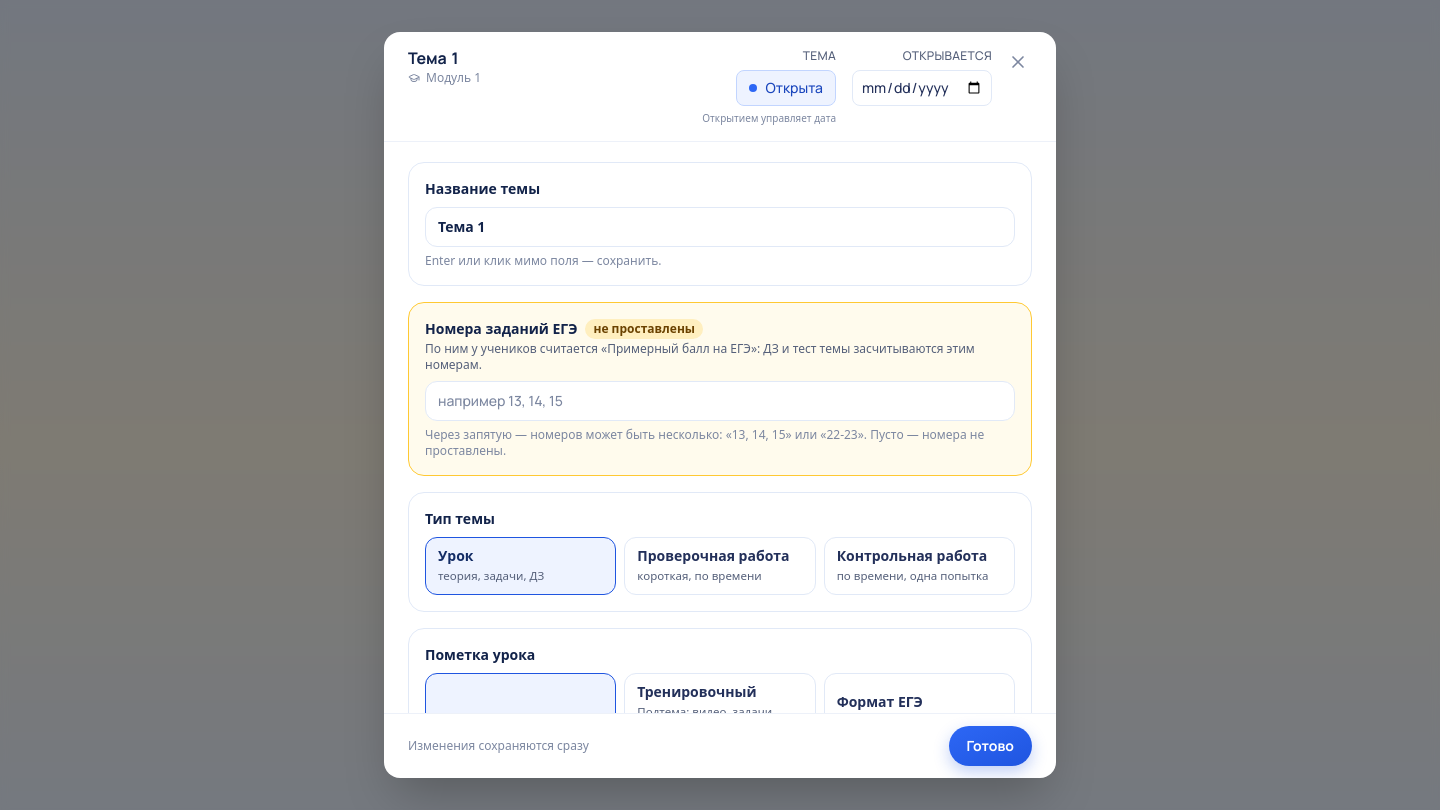
Номера заданий ЕГЭ в редакторе темы (§216) › мусор объясняется под полем и в базу не идёт
Type "оптика" into the field with test id "topic-ege-numbers-input" at (720, 401), box [425,381,1015,421]
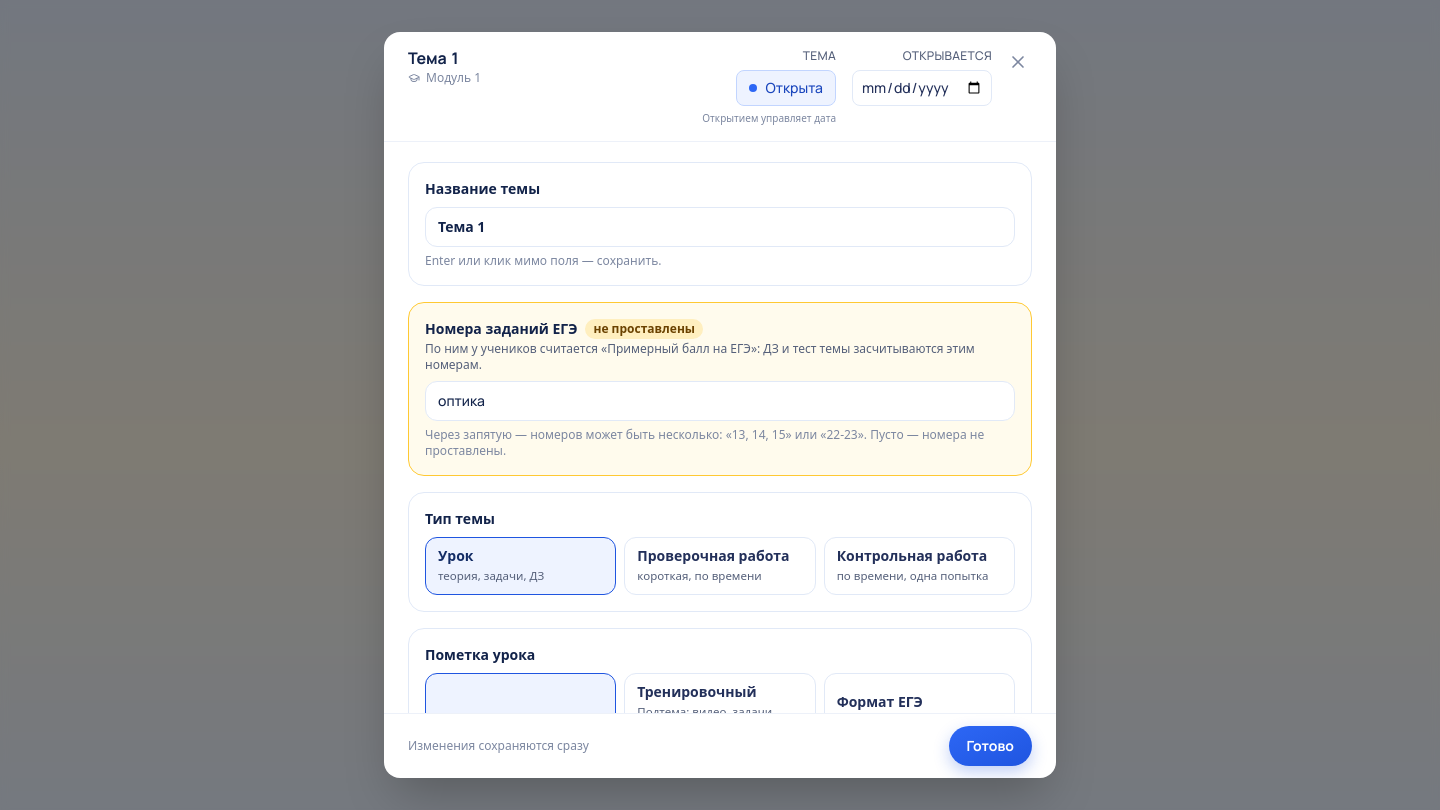
Leave the field with test id "topic-ege-numbers-input", box [425,381,1015,421]
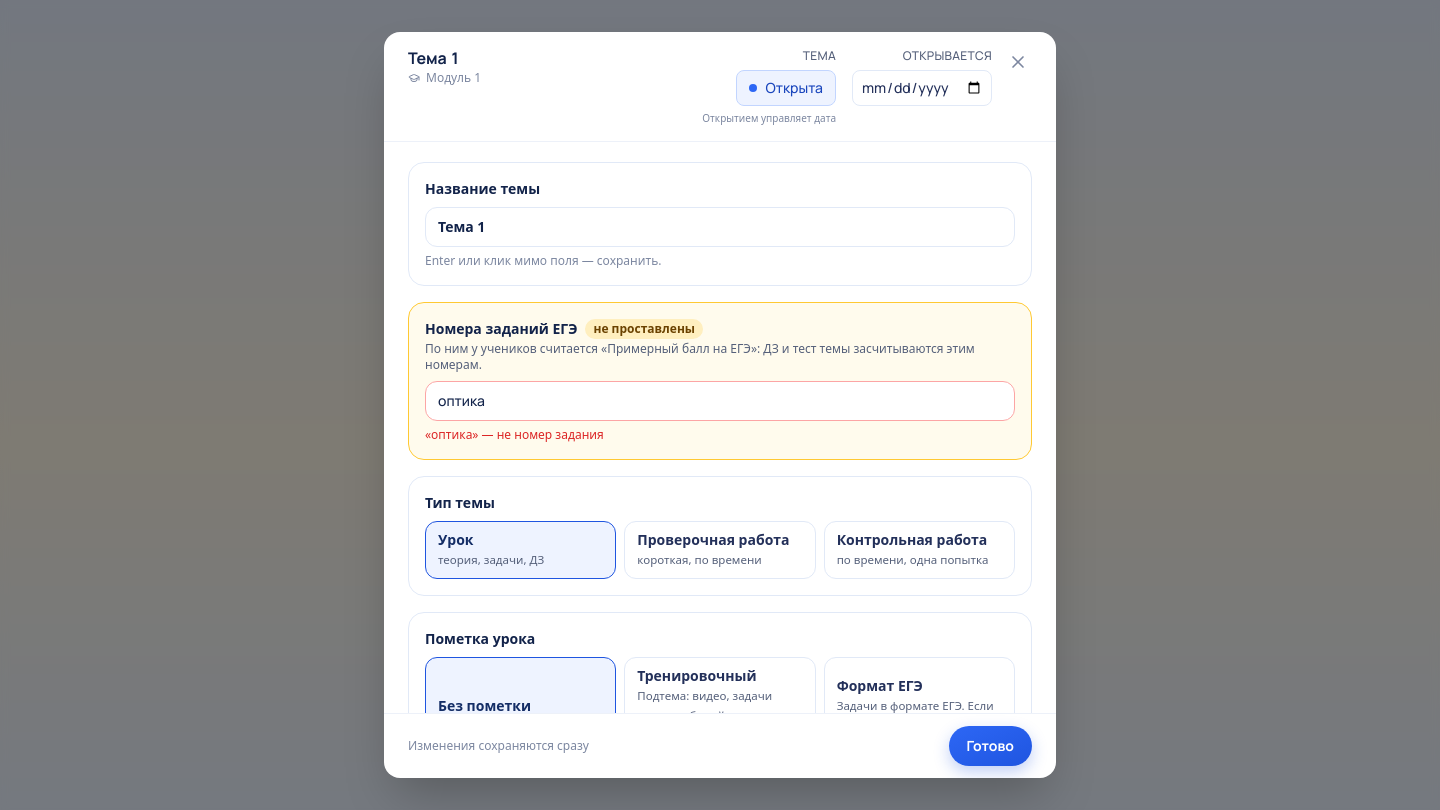
Expected: the text with test id "topic-ege-numbers-error" shows "не номер задания", [425,426,604,443]
